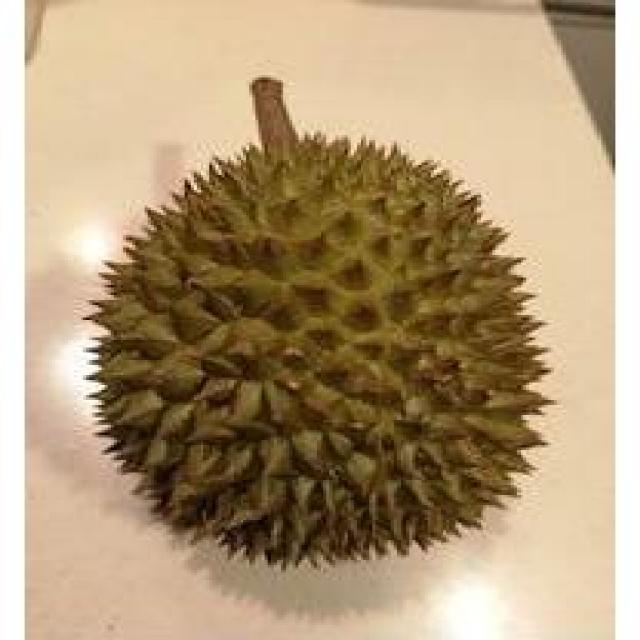fruit: (71, 230, 418, 615)
